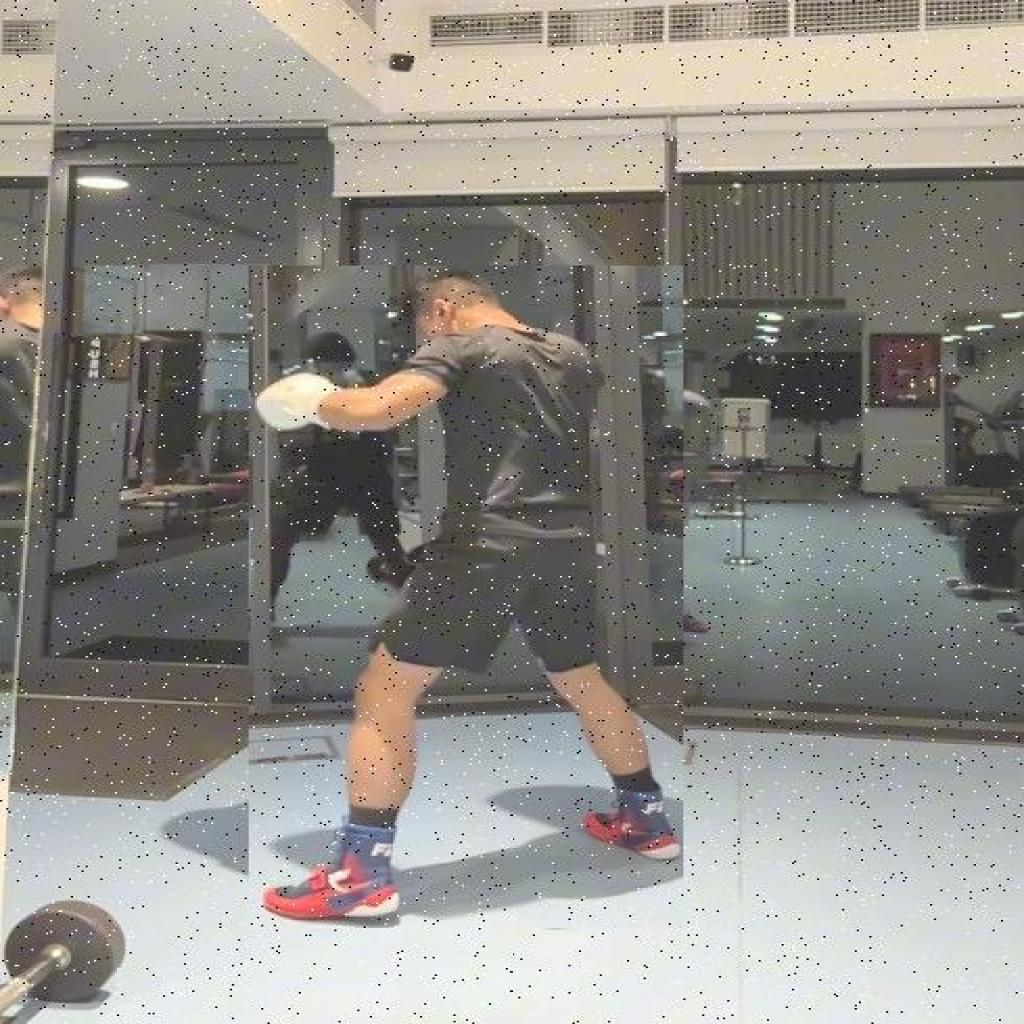hook: (249, 266, 683, 928)
